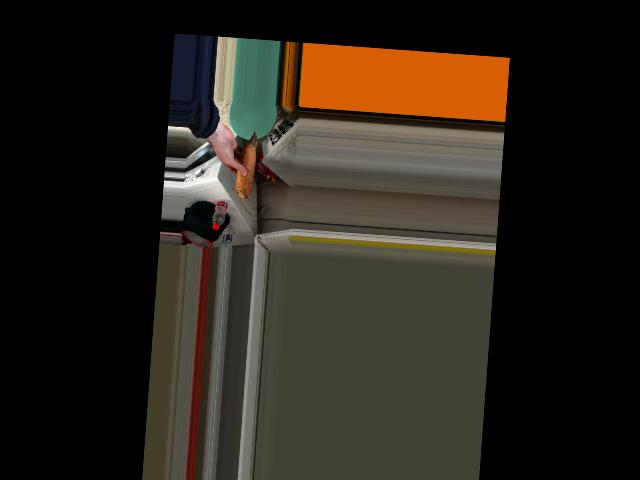sweet_potato: (232, 134, 256, 193)
